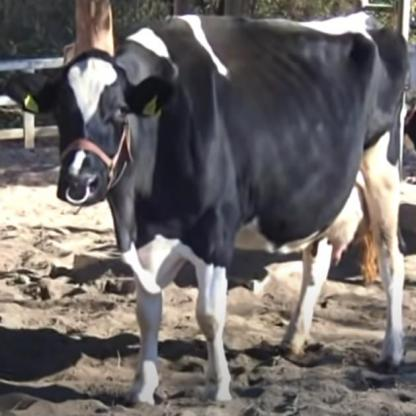cow: (6, 15, 416, 404)
